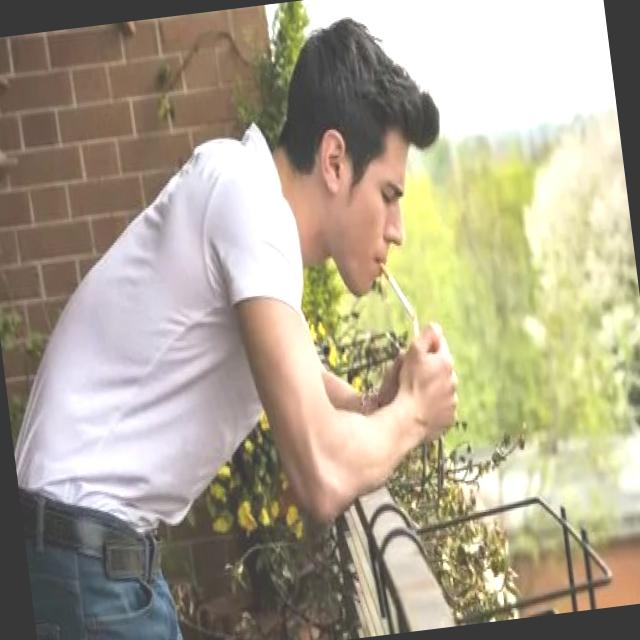cigarette: (376, 254, 418, 326)
